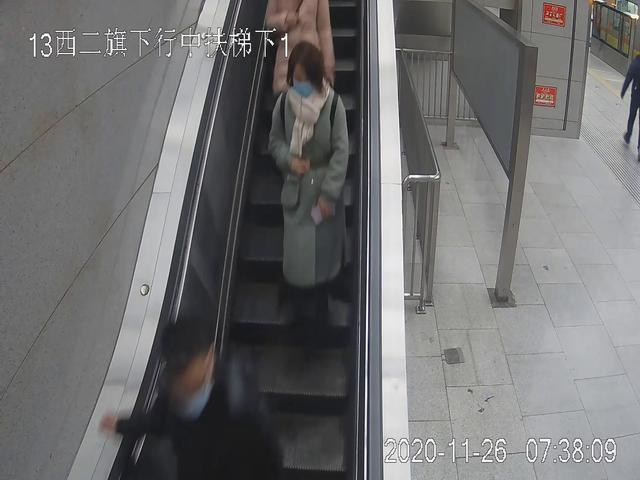person: (268, 42, 352, 329), (261, 1, 337, 152)
